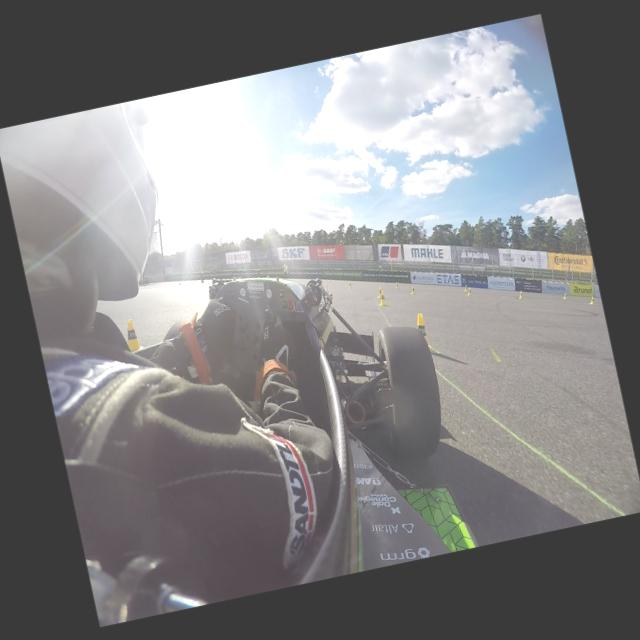yellow_cone: (123, 319, 143, 352), (414, 312, 426, 336), (377, 292, 386, 306), (375, 286, 383, 298), (517, 290, 524, 299), (588, 296, 595, 304), (409, 286, 415, 294), (466, 288, 472, 296), (462, 284, 468, 291), (562, 292, 568, 299), (347, 282, 352, 288), (394, 282, 398, 288), (178, 280, 181, 284)
